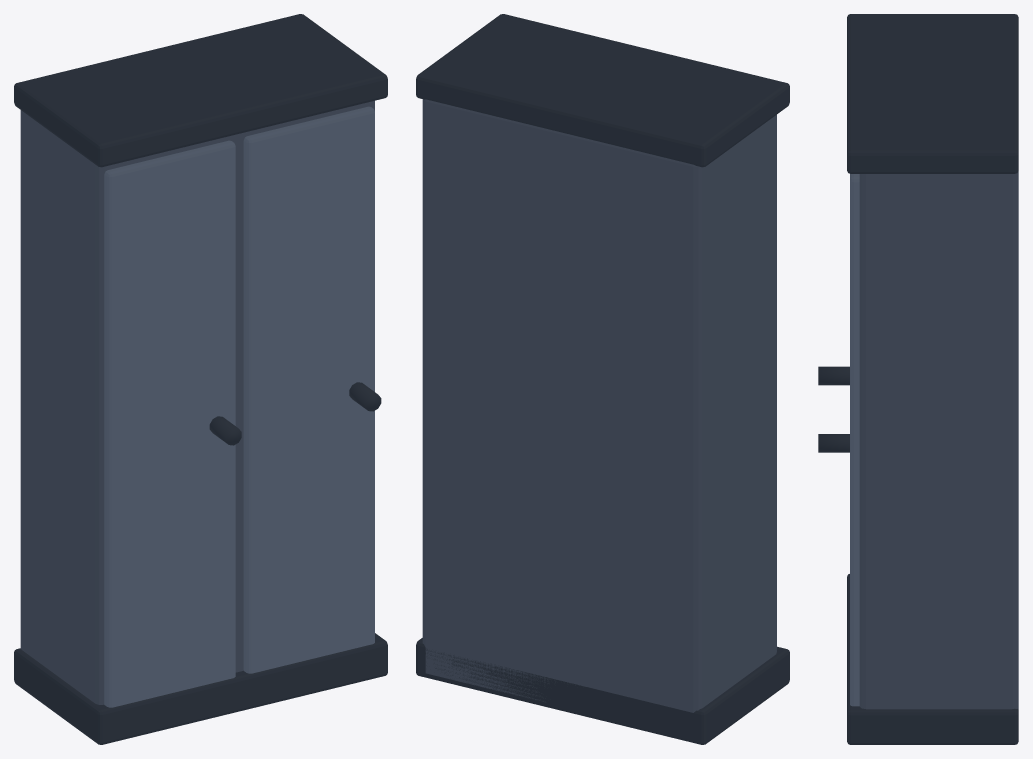
The model's file is casillero.glb.
The picture shows the model from 3 angles, left to right: view 1: azimuth 30°, elevation 25°; view 2: azimuth 150°, elevation 25°; view 3: azimuth 270°, elevation 25°; orthographic projection.
Parts seen in each view (by area): view 1: Cube.054, Cube.053, Cube.052, Cube.055, Cube.056, Cylinder.032, Cylinder.033; view 2: Cube.052, Cube.055, Cube.056; view 3: Cube.052, Cube.055, Cube.056, Cube.054, Cylinder.032, Cylinder.033.
Part boxes in pixels (x1,y1,x2,y2): Cube.054: [243, 106, 374, 673]; Cube.053: [104, 140, 235, 707]; Cube.052: [20, 100, 374, 704]; Cube.055: [14, 14, 387, 167]; Cube.056: [14, 633, 387, 744]; Cylinder.032: [209, 416, 241, 445]; Cylinder.033: [349, 382, 381, 411]; Cube.052: [422, 99, 776, 712]; Cube.055: [416, 14, 789, 167]; Cube.056: [416, 638, 789, 744]; Cube.052: [859, 171, 1018, 709]; Cube.055: [847, 14, 1018, 173]; Cube.056: [847, 574, 1018, 744]; Cube.054: [850, 174, 859, 706]; Cylinder.032: [818, 366, 849, 385]; Cylinder.033: [818, 434, 849, 452].
Size of the model in its own units: 1.04 by 2.06 by 0.63.
